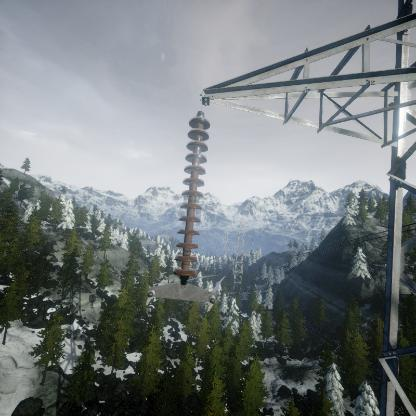insulator: (171, 106, 212, 284)
